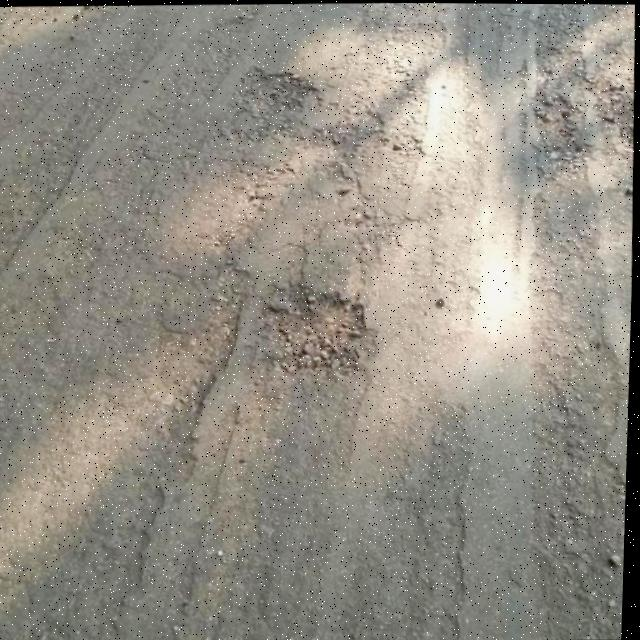Pothole: (256, 279, 381, 378), (230, 62, 324, 119)
